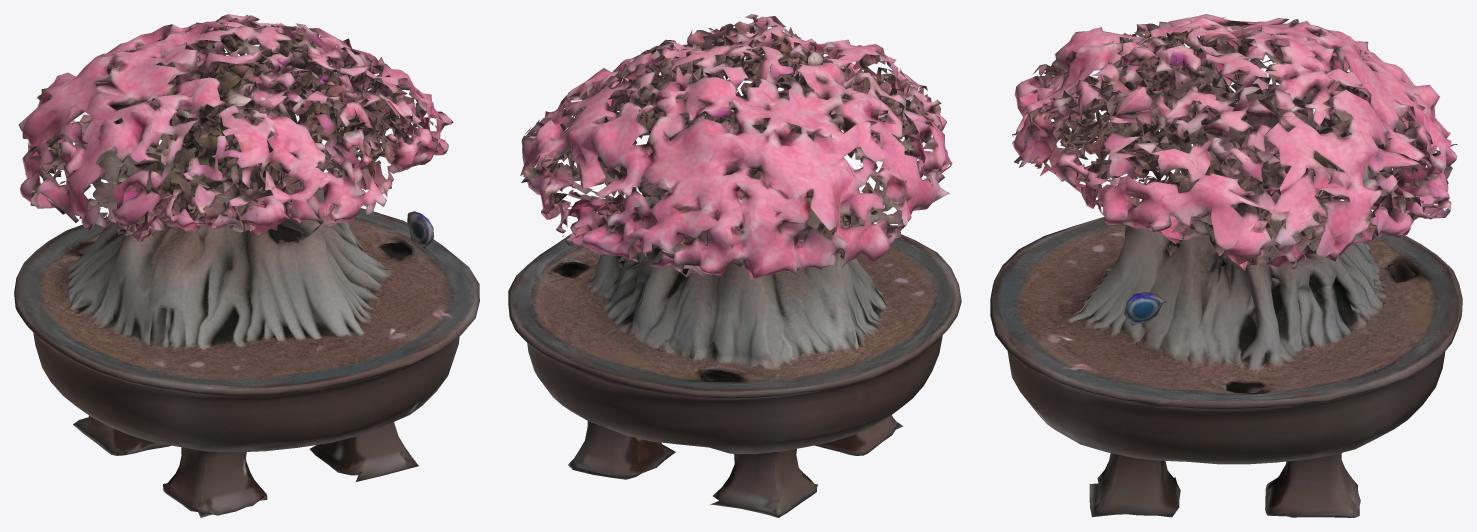
Rendered from Caudex.glb.
The picture shows the model from 3 angles, left to right: view 1: azimuth 30°, elevation 25°; view 2: azimuth 150°, elevation 25°; view 3: azimuth 270°, elevation 25°; orthographic projection. The views are drawn at different scales.
Size of the model in its own units: 2 by 1.96 by 1.99.
1 material, 1 textured.
